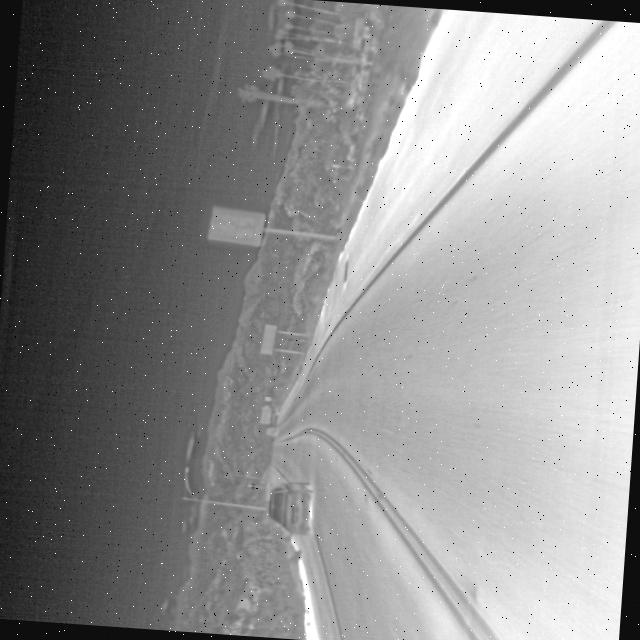Vehicle: (264, 478, 316, 536)
